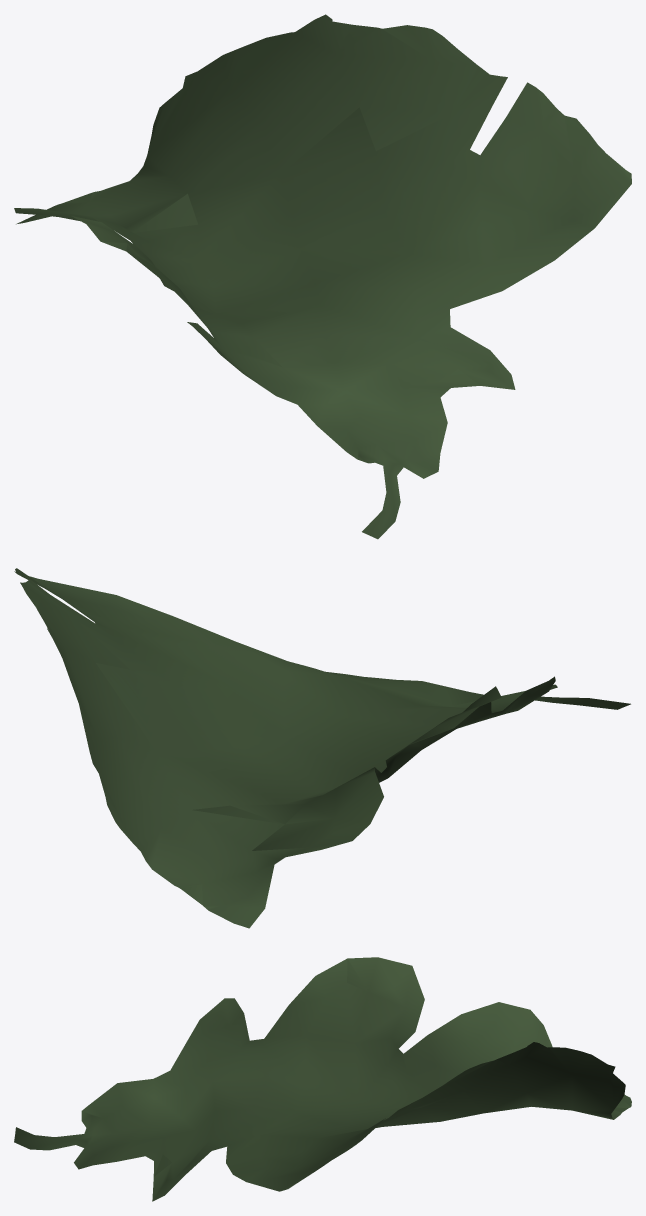
File: trees-leaves-oak-leaf_v5.glb
3 views of the same model, one above another, from view 1: azimuth 30°, elevation 25°; view 2: azimuth 150°, elevation 25°; view 3: azimuth 270°, elevation 25° (orthographic). The views are drawn at different scales.
Visible parts, largest first — view 1: Oak Leaf_v5; view 2: Oak Leaf_v5; view 3: Oak Leaf_v5.
Boxes of the visible parts, bbox=[...] form: Oak Leaf_v5: bbox=[14, 14, 631, 539]; Oak Leaf_v5: bbox=[14, 568, 630, 928]; Oak Leaf_v5: bbox=[14, 957, 631, 1201].
Size of the model in its own units: 0.0951 by 0.044 by 0.12.
